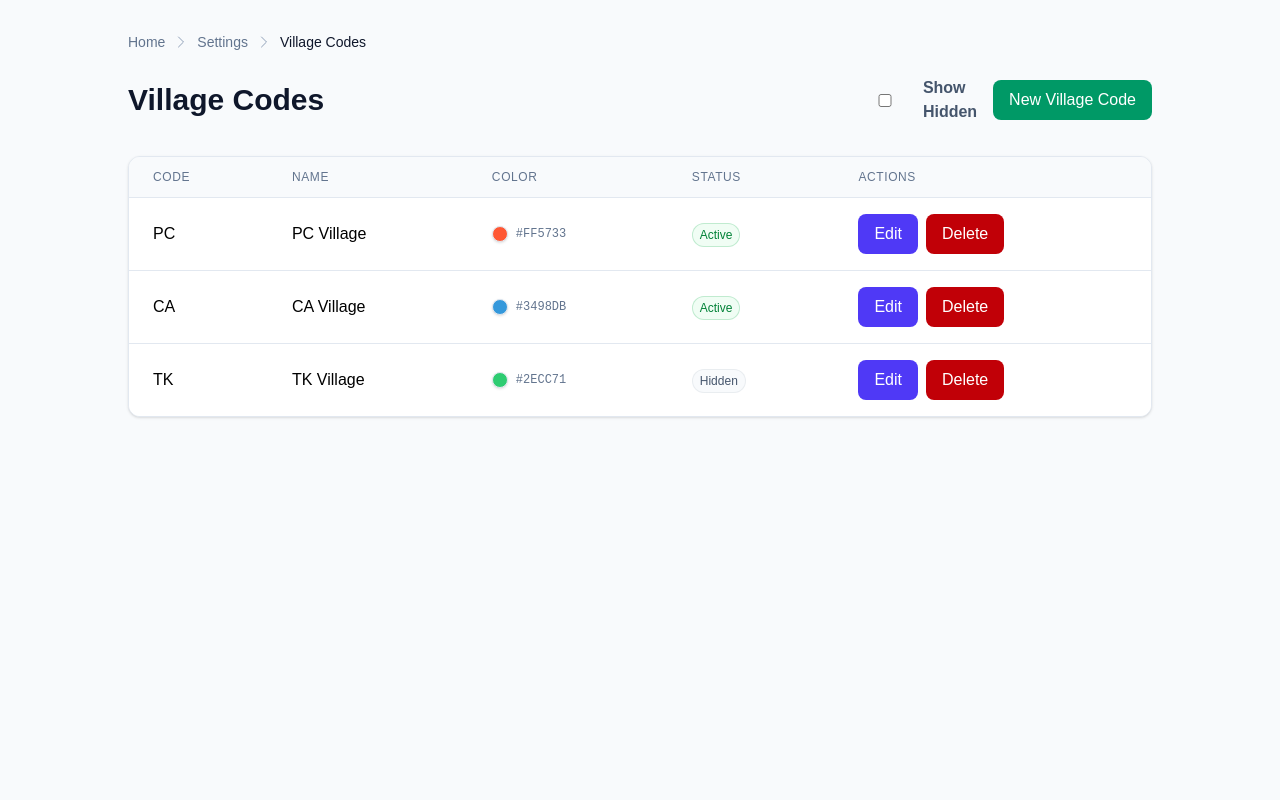
Test: VillageCodesPage › opens edit form when edit button is clicked
Click the button "Edit" in the row of "PC Village".
click(888, 234)  # box [858, 214, 918, 254]
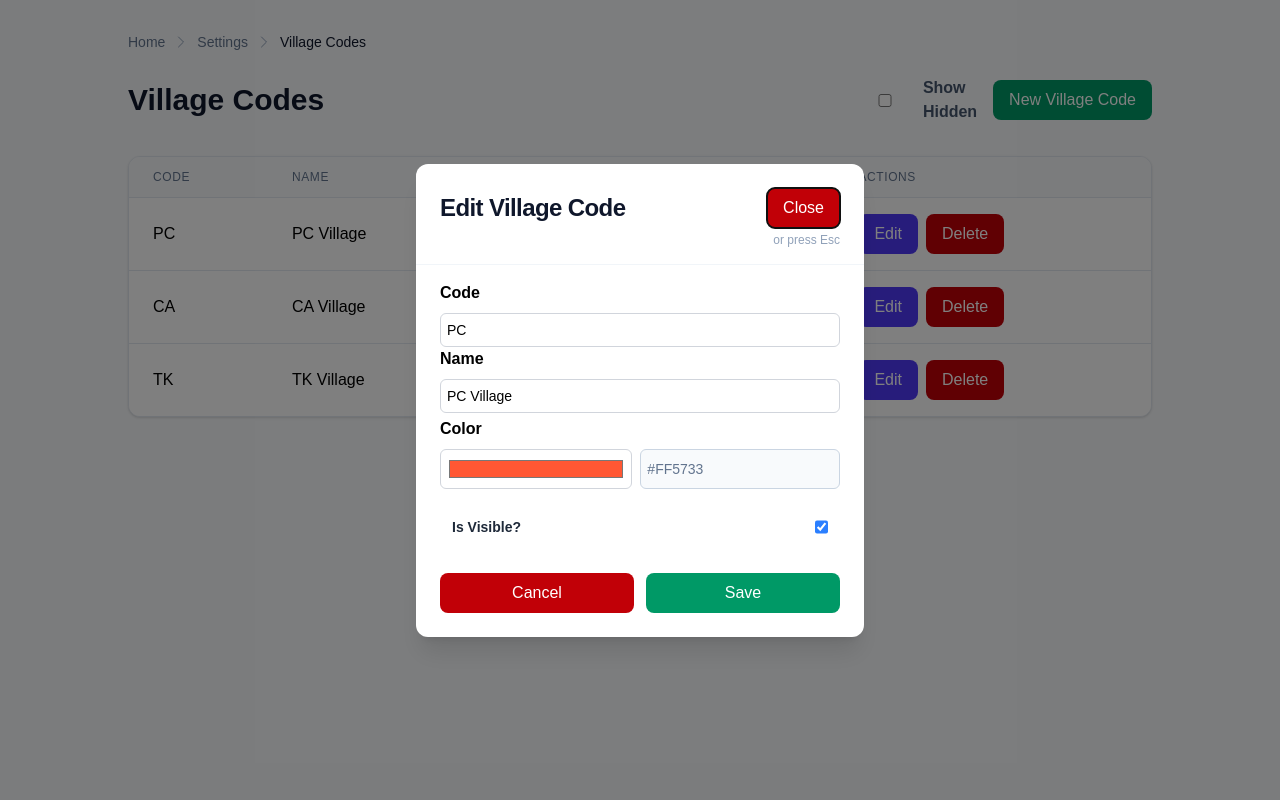
expect the heading "Edit Village Code" is shown: met, box [440, 188, 625, 228]
expect the field showing "PC Village" is shown: met, box [440, 378, 840, 412]
